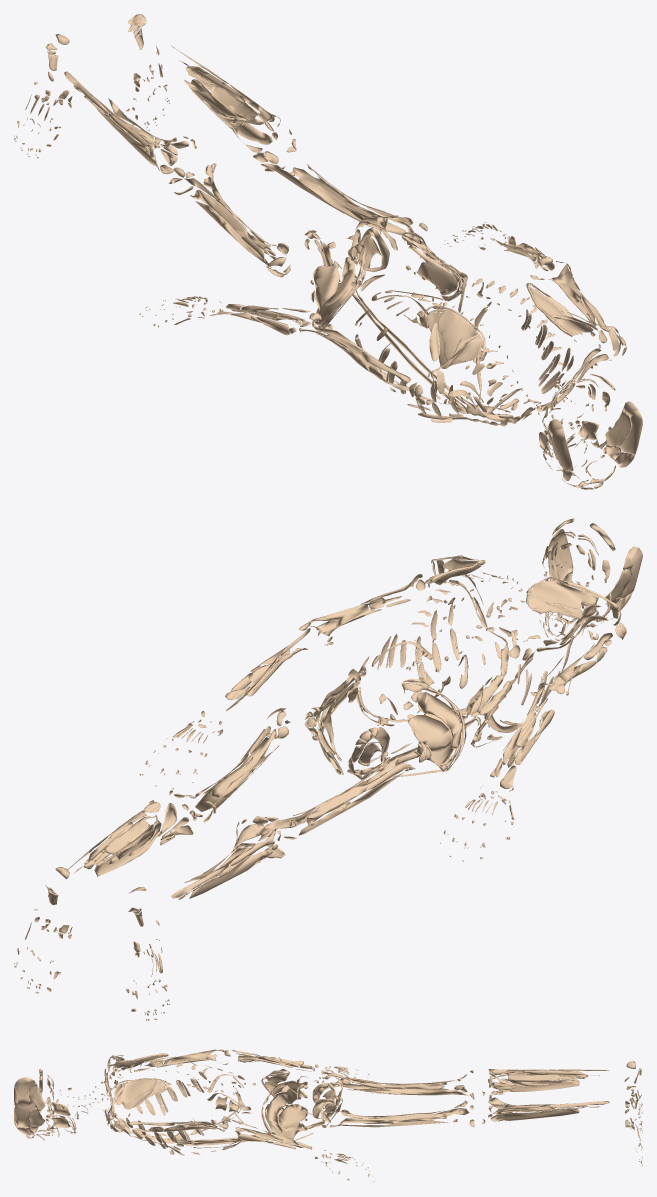
Rendered from overview__insertions.2c8fe205f1.glb.
The picture shows the model from 3 angles, top to bottom: view 1: azimuth 30°, elevation 25°; view 2: azimuth 150°, elevation 25°; view 3: azimuth 270°, elevation 25°; orthographic projection. The views are drawn at different scales.
Visible parts, largest first — view 1: Infraspinatus muscle.or, Tibialis anterior muscle.ol, Vastus lateralis muscle.or, Gluteus minimus muscle.or, Adductor magnus.el, Iliacus muscle.ol, Vastus intermedius muscle.ol, Temporalis muscle.o2l, Temporalis muscle.o2r, Tibialis posterior muscle.ol; view 2: Infraspinatus muscle.or, Gluteus minimus muscle.or, Vastus lateralis muscle.or, Gluteus medius muscle.or, Vastus intermedius muscle.ol, Tibialis anterior muscle.ol, Tibialis anterior muscle.or, Temporalis muscle.o2l, Tibialis posterior muscle.ol; view 3: Tibialis anterior muscle.or, Tibialis anterior muscle.ol, Infraspinatus muscle.ol, Vastus lateralis muscle.ol, Gluteus minimus muscle.ol, Temporalis muscle.o2l, Adductor magnus.er, Gluteus medius muscle.ol, Temporalis muscle.o2r, Vastus intermedius muscle.or, Tibialis posterior muscle.or, Vastus medialis muscle.or (+15 smaller).
Boxes of the visible parts, x1=… form: Infraspinatus muscle.or: x1=437, y1=309, x2=475, y2=364; Tibialis anterior muscle.ol: x1=189, y1=79, x2=272, y2=144; Vastus lateralis muscle.or: x1=194, y1=189, x2=284, y2=277; Gluteus minimus muscle.or: x1=313, y1=265, x2=340, y2=310; Adductor magnus.el: x1=253, y1=152, x2=389, y2=217; Iliacus muscle.ol: x1=417, y1=262, x2=457, y2=295; Vastus intermedius muscle.ol: x1=298, y1=175, x2=405, y2=235; Temporalis muscle.o2l: x1=619, y1=401, x2=642, y2=455; Temporalis muscle.o2r: x1=548, y1=419, x2=573, y2=471; Tibialis posterior muscle.ol: x1=211, y1=85, x2=258, y2=119; Infraspinatus muscle.or: x1=530, y1=581, x2=595, y2=608; Gluteus minimus muscle.or: x1=408, y1=715, x2=451, y2=751; Vastus lateralis muscle.or: x1=306, y1=762, x2=415, y2=826; Gluteus medius muscle.or: x1=416, y1=692, x2=462, y2=748; Vastus intermedius muscle.ol: x1=195, y1=737, x2=270, y2=811; Tibialis anterior muscle.ol: x1=94, y1=827, x2=159, y2=876; Tibialis anterior muscle.or: x1=189, y1=850, x2=272, y2=898; Temporalis muscle.o2l: x1=548, y1=529, x2=573, y2=580; Tibialis posterior muscle.ol: x1=104, y1=816, x2=153, y2=854; Tibialis anterior muscle.or: x1=491, y1=1078, x2=579, y2=1091; Tibialis anterior muscle.ol: x1=490, y1=1108, x2=579, y2=1120; Infraspinatus muscle.ol: x1=116, y1=1079, x2=156, y2=1104; Vastus lateralis muscle.ol: x1=329, y1=1113, x2=446, y2=1127; Gluteus minimus muscle.ol: x1=278, y1=1104, x2=307, y2=1131; Temporalis muscle.o2l: x1=14, y1=1099, x2=37, y2=1127; Adductor magnus.er: x1=347, y1=1078, x2=467, y2=1092; Gluteus medius muscle.ol: x1=267, y1=1093, x2=287, y2=1133; Temporalis muscle.o2r: x1=14, y1=1077, x2=37, y2=1106; Vastus intermedius muscle.or: x1=340, y1=1084, x2=448, y2=1094; Tibialis posterior muscle.or: x1=506, y1=1073, x2=559, y2=1081; Vastus medialis muscle.or: x1=347, y1=1089, x2=468, y2=1095.
Bounding box in the file's own units: 640 × 234 × 1600.
